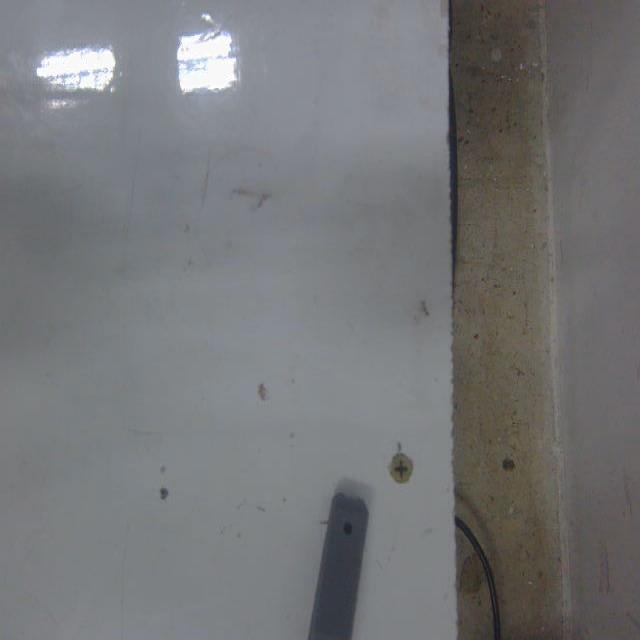grey: (307, 492, 372, 640)
head: (342, 521, 353, 536)
